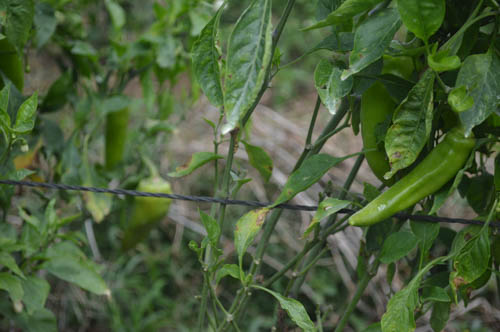ChiliPepper: (347, 131, 477, 239), (354, 54, 397, 185), (120, 183, 176, 259), (100, 109, 131, 173)
